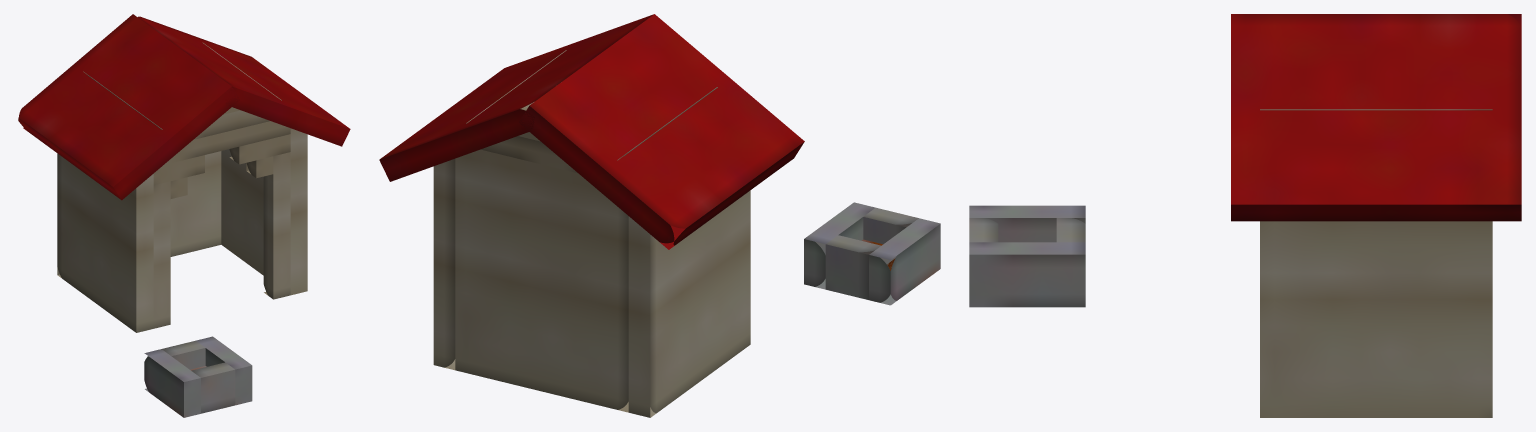
File: doghouse.obj
3 renders of one model, left to right at view 1: azimuth 30°, elevation 25°; view 2: azimuth 150°, elevation 25°; view 3: azimuth 270°, elevation 25°, orthographic. The views are drawn at different scales.
Visible parts, largest first — view 1: roof1, box10, box9, roof2, box8, box5, bowl1, box6, box3, bowl4, bowl3, roof4 (+5 smaller); view 2: box8, roof1, box10, roof2, box9, bowl1, bowl2, bowl3, roof4, bowl4; view 3: roof2, box9, bowl3, bowl1, bowl2, bowl4.
Boxes of the visible parts, x1,y1,x2,y2 form: roof1: [18, 14, 239, 200]; box10: [57, 153, 153, 332]; box9: [221, 128, 307, 295]; roof2: [138, 16, 350, 146]; box8: [170, 151, 221, 256]; box5: [263, 152, 290, 299]; bowl1: [144, 349, 200, 417]; box6: [153, 181, 170, 328]; box3: [164, 121, 290, 164]; bowl4: [191, 362, 235, 413]; bowl3: [196, 336, 252, 405]; roof4: [83, 42, 281, 139]; box8: [455, 149, 628, 412]; roof1: [519, 14, 804, 249]; box10: [628, 190, 750, 417]; roof2: [379, 14, 653, 181]; box9: [433, 159, 455, 370]; bowl1: [869, 218, 940, 305]; bowl2: [825, 235, 880, 299]; bowl3: [804, 202, 875, 289]; roof4: [466, 50, 717, 173]; bowl4: [863, 207, 918, 244]; roof2: [1231, 14, 1521, 221]; box9: [1260, 221, 1492, 417]; bowl3: [969, 242, 1085, 307]; bowl1: [969, 205, 1085, 242]; bowl2: [1056, 218, 1085, 242]; bowl4: [969, 218, 998, 242].
Bounding box in the file's own units: 0.933 × 0.8125 × 1.19.
